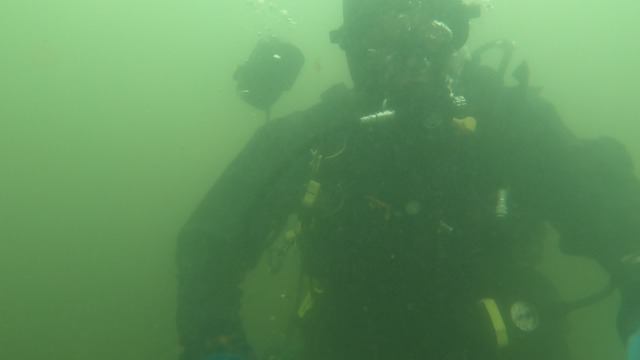Diver: (169, 1, 638, 357)
Head: (333, 5, 492, 117)
